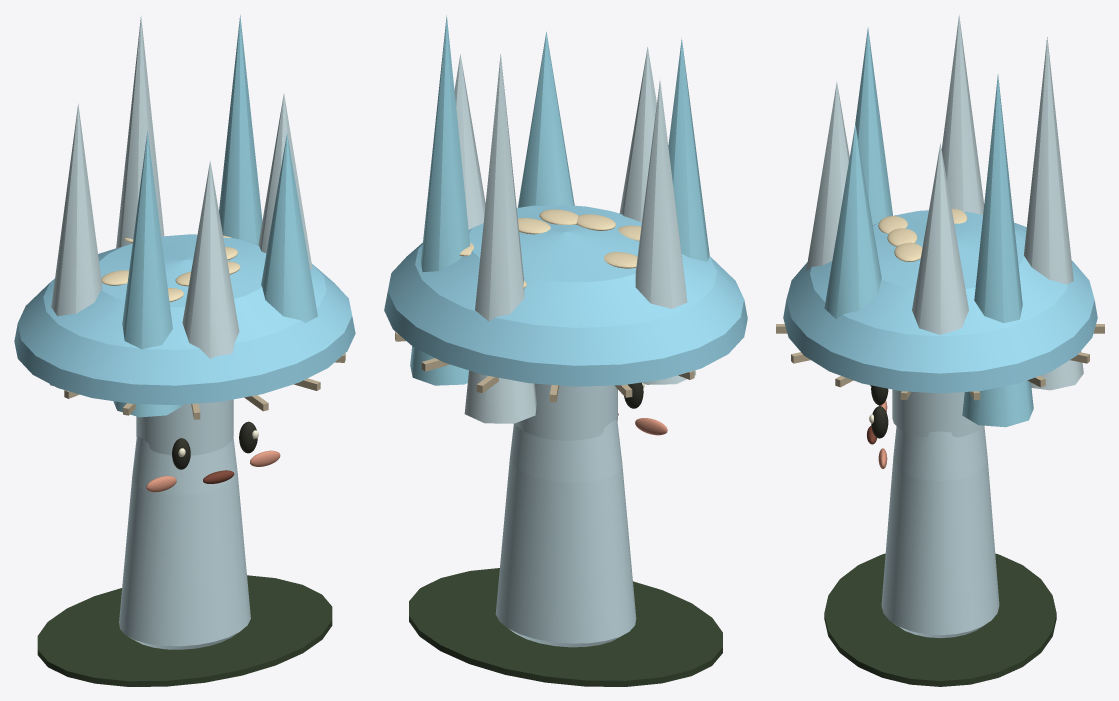
Rendered from sh_ice.obj.
The picture shows the model from 3 angles, left to right: view 1: azimuth 30°, elevation 25°; view 2: azimuth 150°, elevation 25°; view 3: azimuth 270°, elevation 25°; orthographic projection. The views are drawn at different scales.
Bounding box in the file's own units: 1.66 × 3.02 × 1.53.
